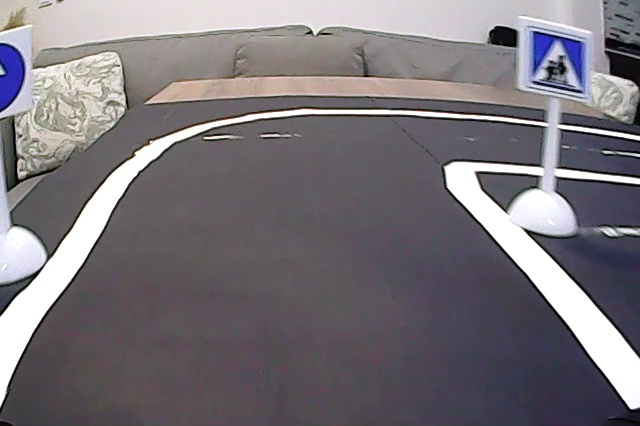school crossing: (520, 21, 589, 96)
